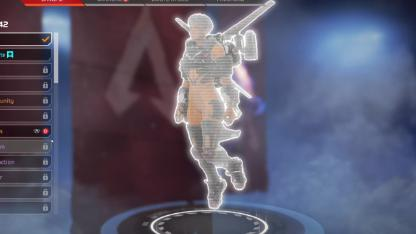Target: (167, 11, 261, 188)
